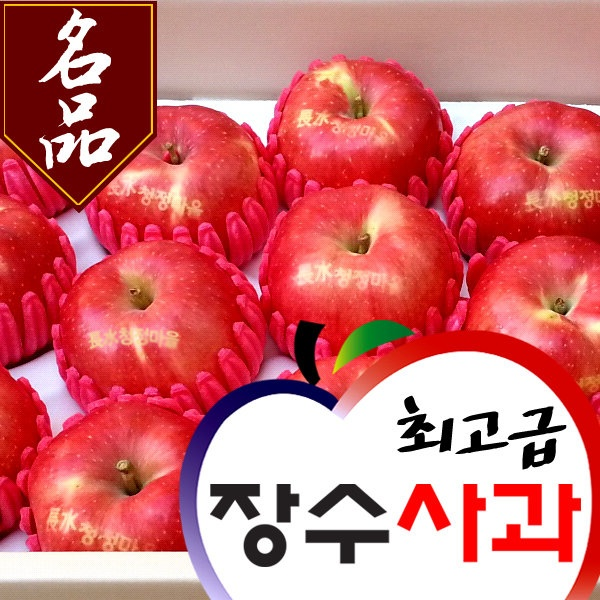apple: (27, 384, 252, 563), (58, 244, 259, 411), (269, 178, 465, 349), (272, 56, 454, 204), (89, 100, 266, 248), (444, 103, 600, 259), (467, 232, 600, 379), (1, 212, 72, 352)
